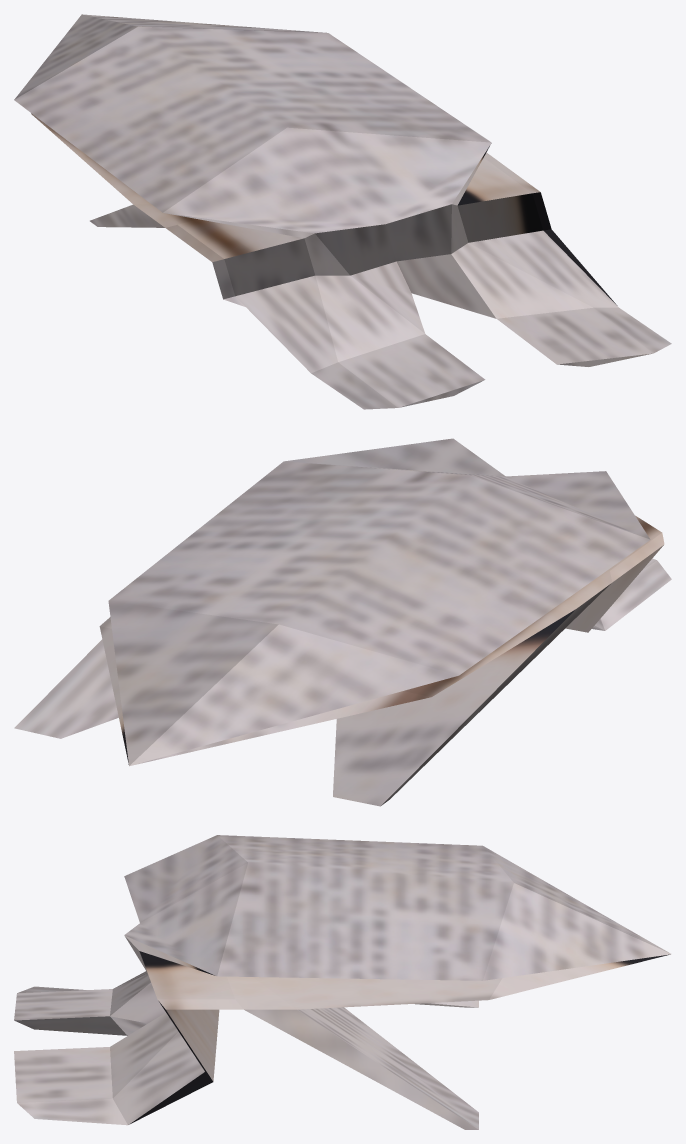
The model's file is FrogWalk2.FBX.
3 renders of one model, top to bottom at view 1: azimuth 30°, elevation 25°; view 2: azimuth 150°, elevation 25°; view 3: azimuth 270°, elevation 25°, orthographic. The views are drawn at different scales.
Parts seen in each view (by area): view 1: Plane002; view 2: Plane002; view 3: Plane002.
Boxes of the visible parts, <box> form: Plane002: <box>14,14,671,409</box>; Plane002: <box>14,438,671,806</box>; Plane002: <box>14,835,671,1129</box>.
Size of the model in its own units: 8.17 by 3.65 by 13.61.
1 material, 1 textured.
